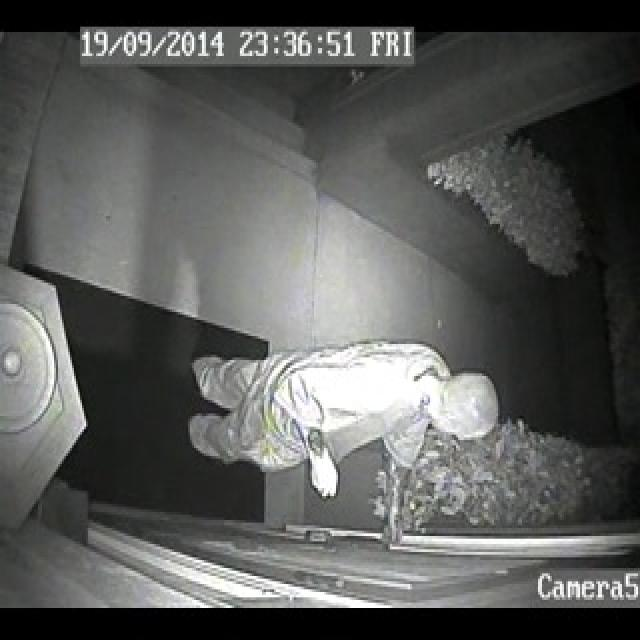thief: (184, 326, 501, 535)
